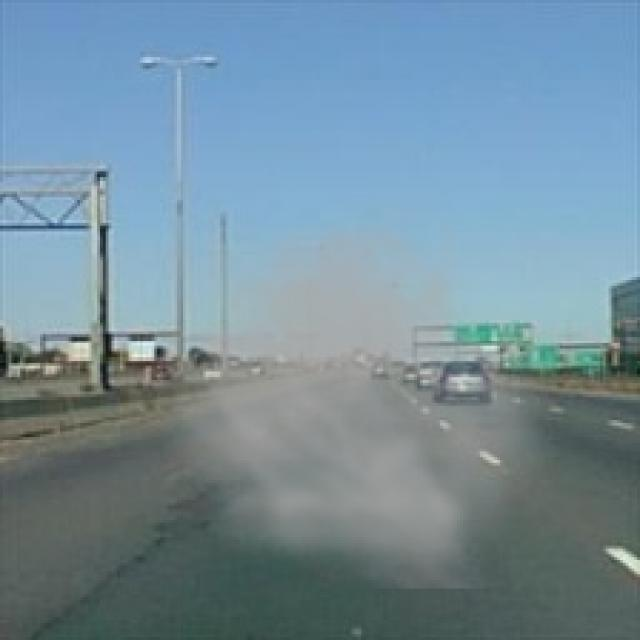smoke: (140, 180, 566, 589)
